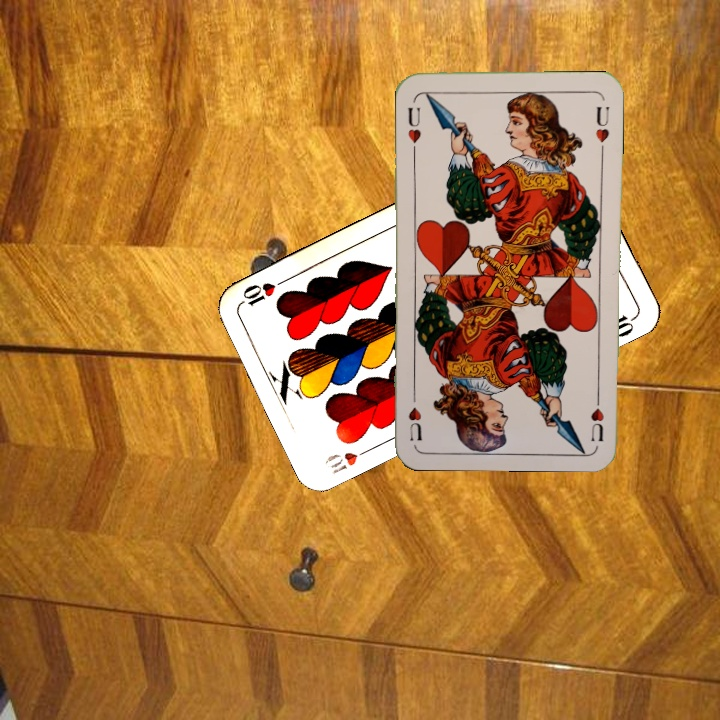H10: (320, 442, 377, 476)
HU: (587, 386, 606, 444), (404, 104, 424, 146)
